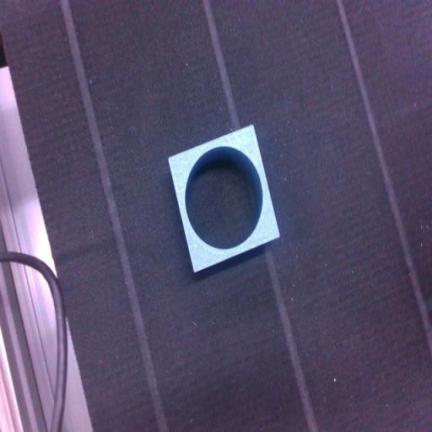square: (169, 125, 279, 271)
